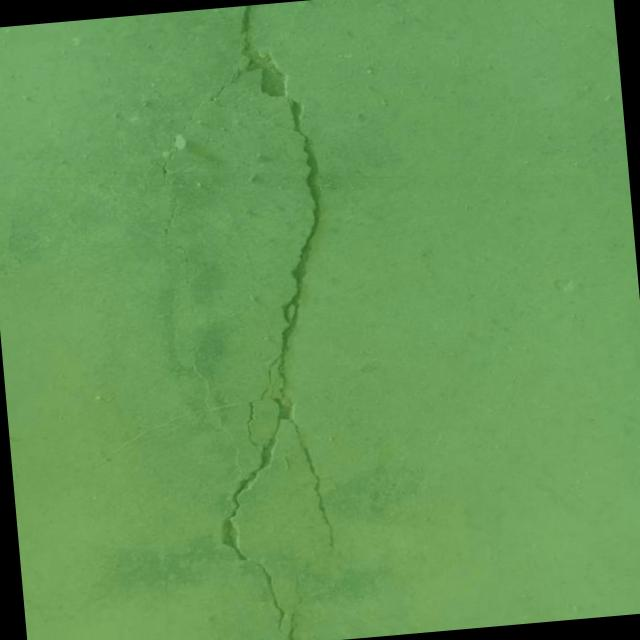crack: (182, 96, 360, 636), (173, 80, 284, 137), (224, 2, 286, 100), (278, 585, 305, 640), (158, 146, 180, 179), (295, 563, 311, 586)
